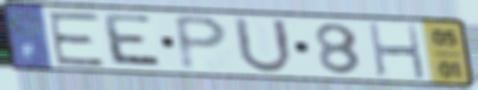8: (312, 22, 364, 77)
E: (103, 11, 167, 70), (45, 11, 109, 68)
H: (365, 22, 429, 82)
P: (171, 12, 232, 74)
U: (230, 15, 297, 77)
